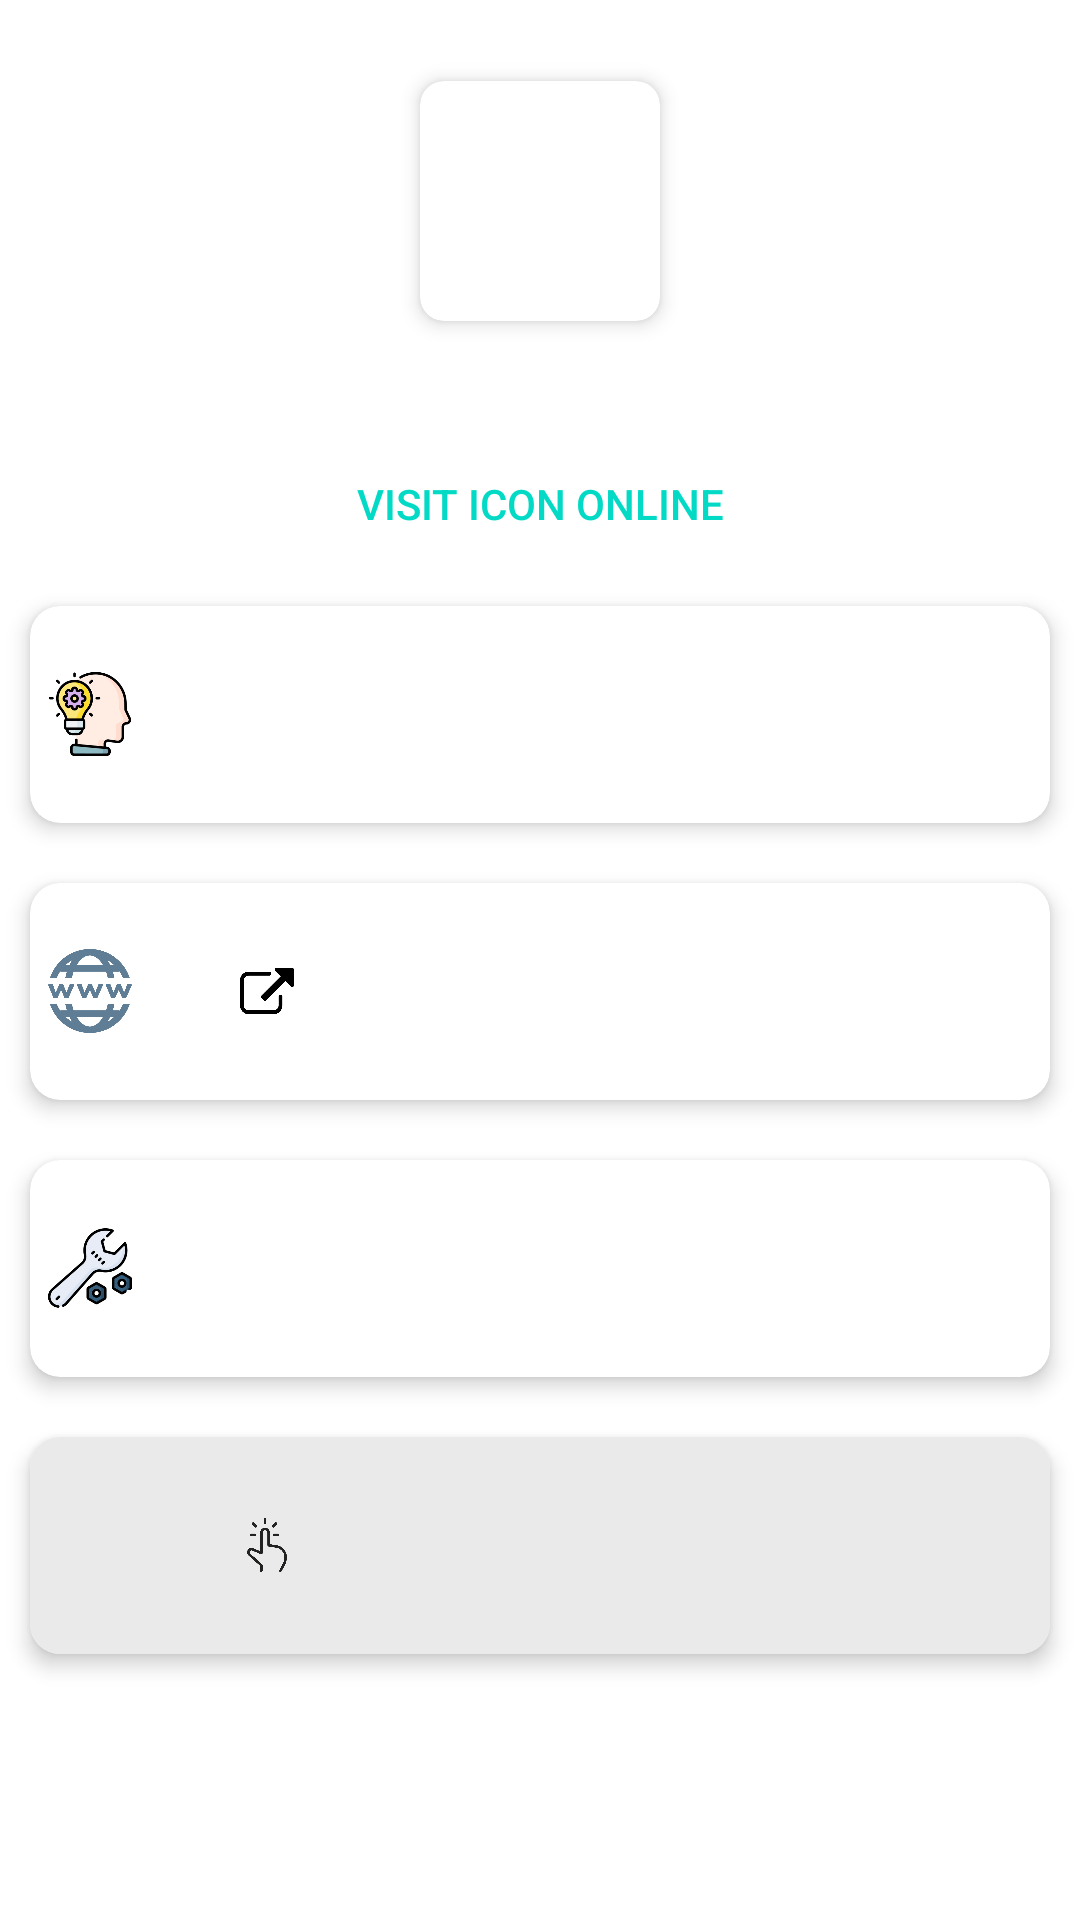

Icons on this 1080px x 1920px Android screen, each with its box as bbox(x1, y1, x2, y2):
click: bbox(247, 1518, 287, 1572)
link: bbox(240, 968, 294, 1014)
Tools Icon: bbox(48, 1228, 132, 1308)
Website Icon: bbox(48, 949, 132, 1033)
